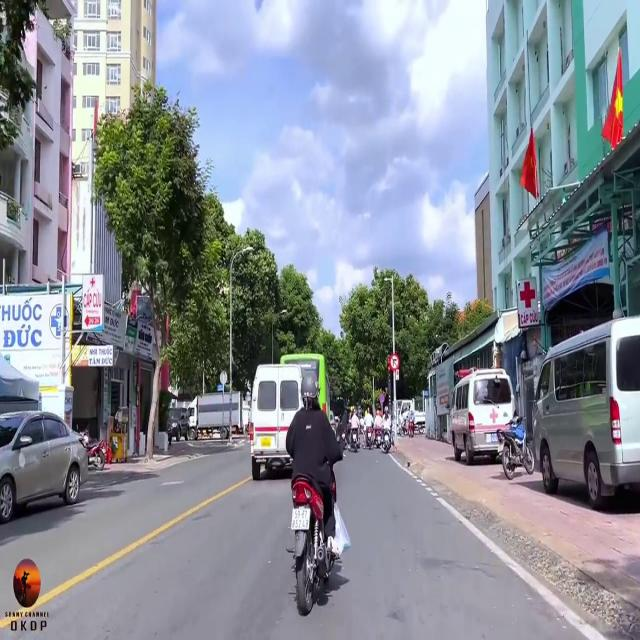bien_trang: (291, 504, 312, 533)
